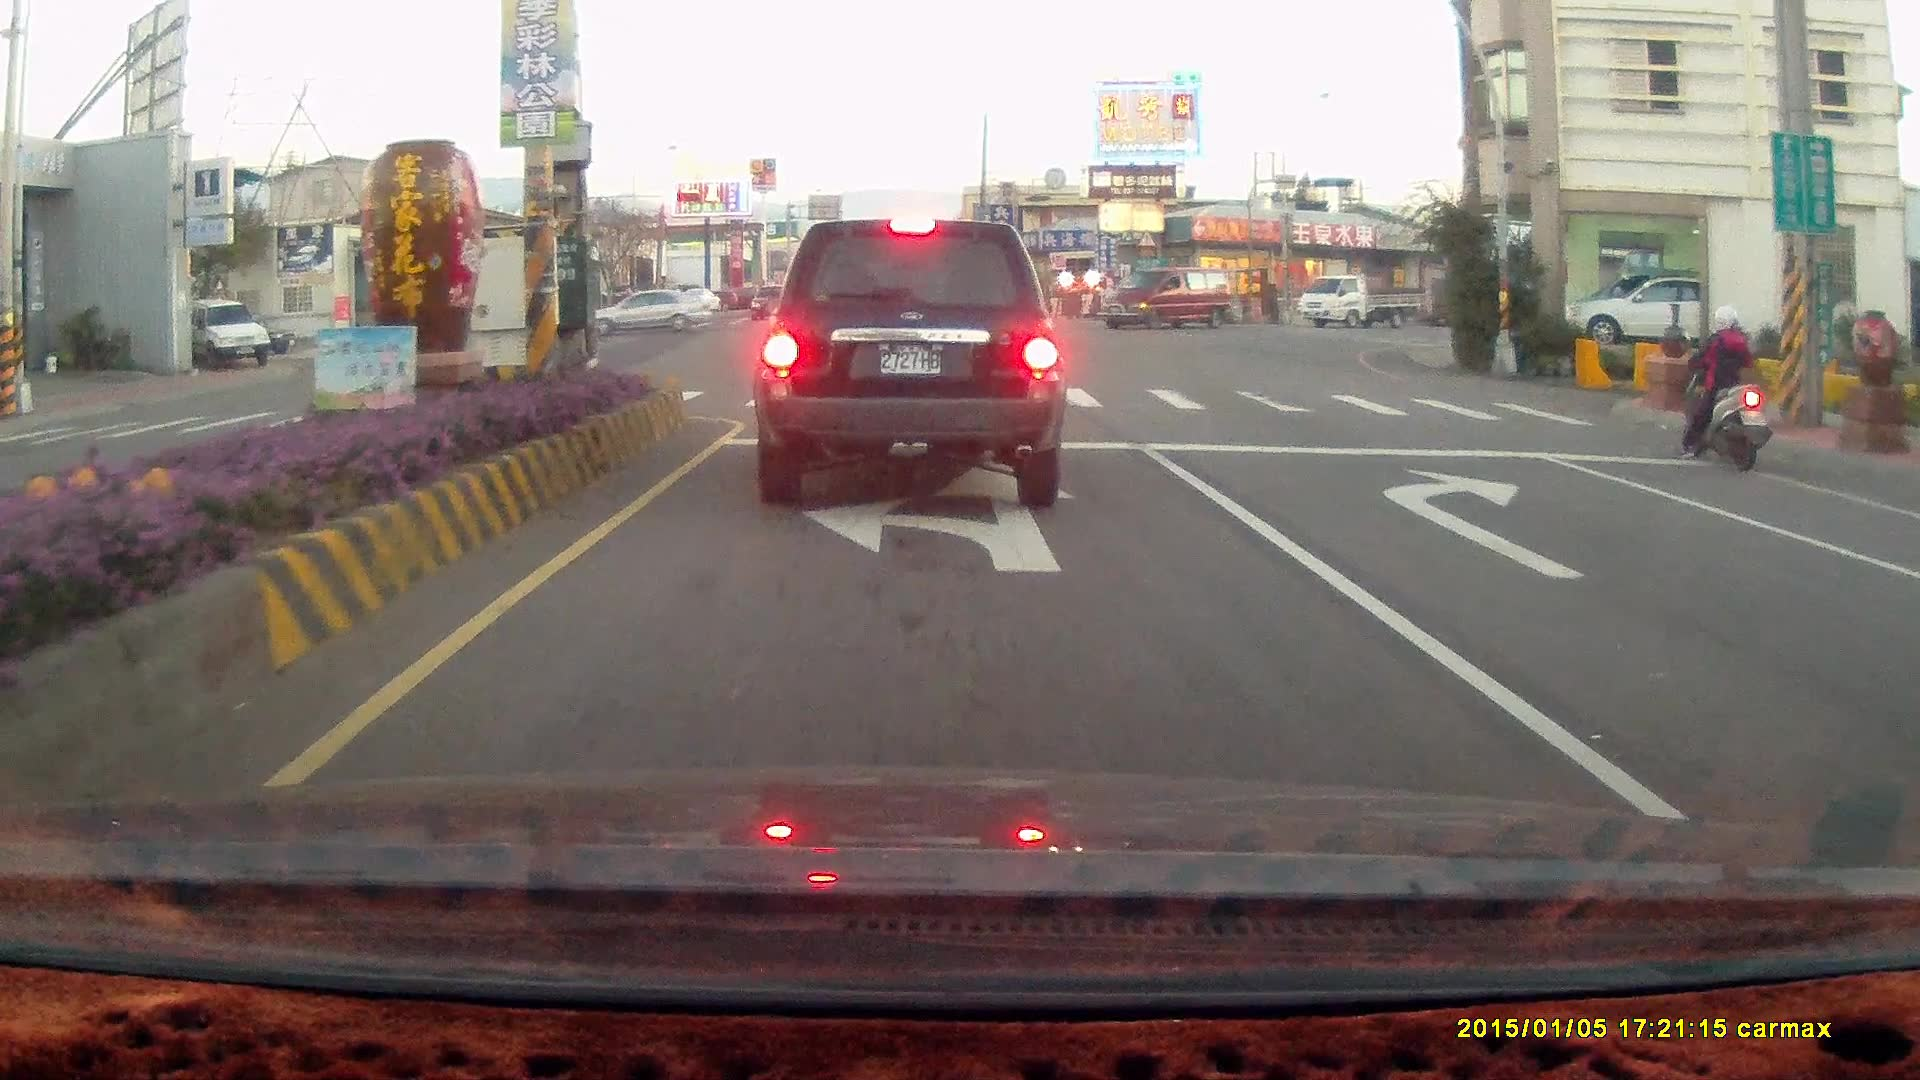rider: (1677, 307, 1772, 474)
vehicle: (750, 216, 1066, 506), (1553, 272, 1747, 350), (1103, 268, 1240, 331), (1574, 281, 1704, 347), (1098, 266, 1233, 329), (1896, 493, 1920, 836), (171, 294, 269, 369), (1300, 274, 1426, 331), (585, 284, 706, 336), (1883, 528, 1920, 690), (597, 286, 712, 336)
